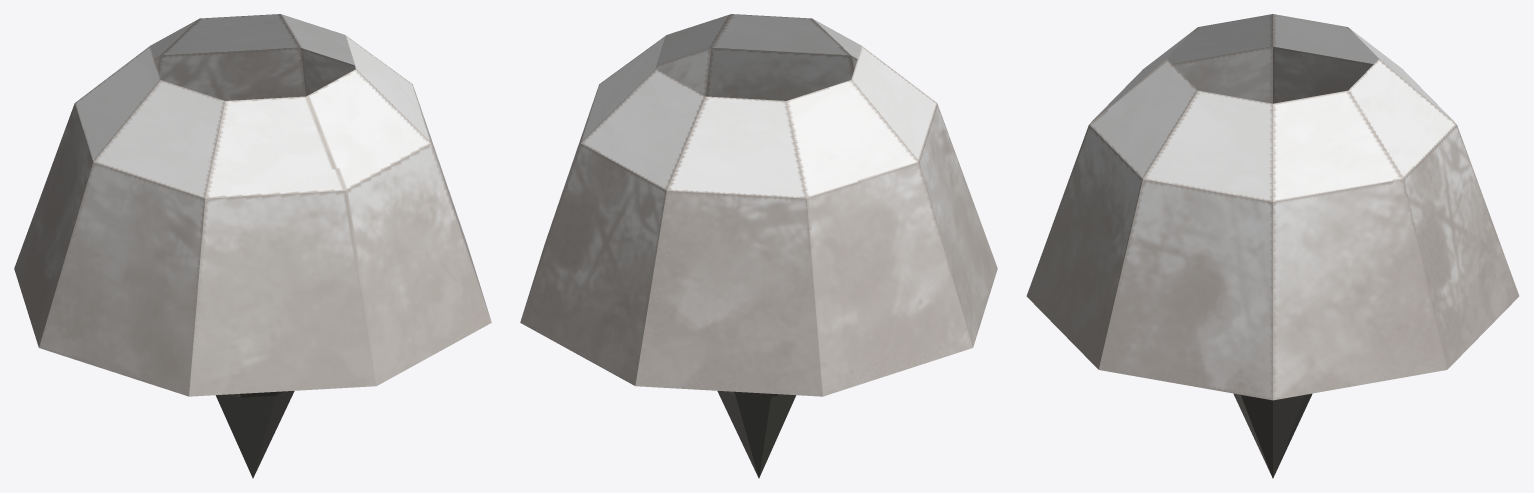
The model's file is nozzle_03.fbx.
3 views of the same model, side by side, from view 1: azimuth 30°, elevation 25°; view 2: azimuth 150°, elevation 25°; view 3: azimuth 270°, elevation 25° (orthographic).
Parts seen in each view (by area): view 1: nozzle_03; view 2: nozzle_03; view 3: nozzle_03.
Part boxes in pixels (x1=…): nozzle_03: x1=14, y1=14, x2=491, y2=478; nozzle_03: x1=520, y1=14, x2=997, y2=478; nozzle_03: x1=1026, y1=14, x2=1519, y2=478.
Size of the model in its own units: 5.42 by 5.1 by 5.42.
